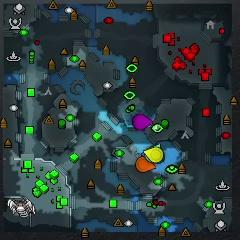p1: (141, 152, 145, 156)
p2: (145, 143, 161, 163)
p3: (133, 114, 151, 130)
p4: (144, 148, 163, 162)
p5: (136, 157, 156, 173)
